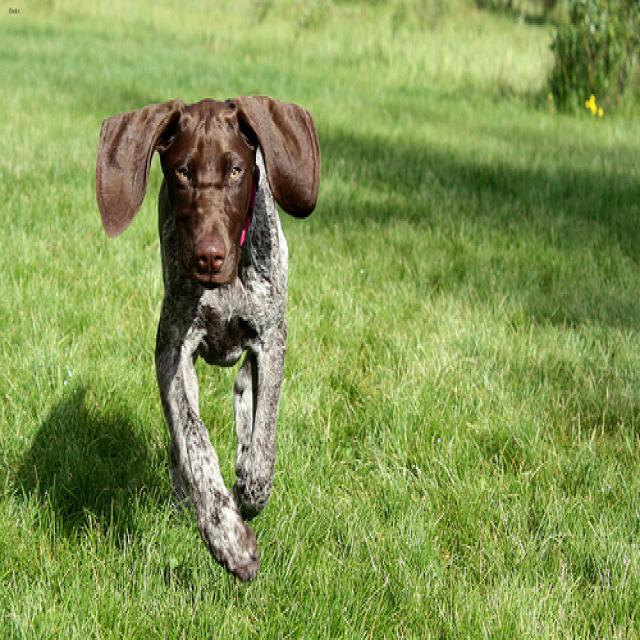dog-german_shorthaired: (88, 81, 325, 586)
